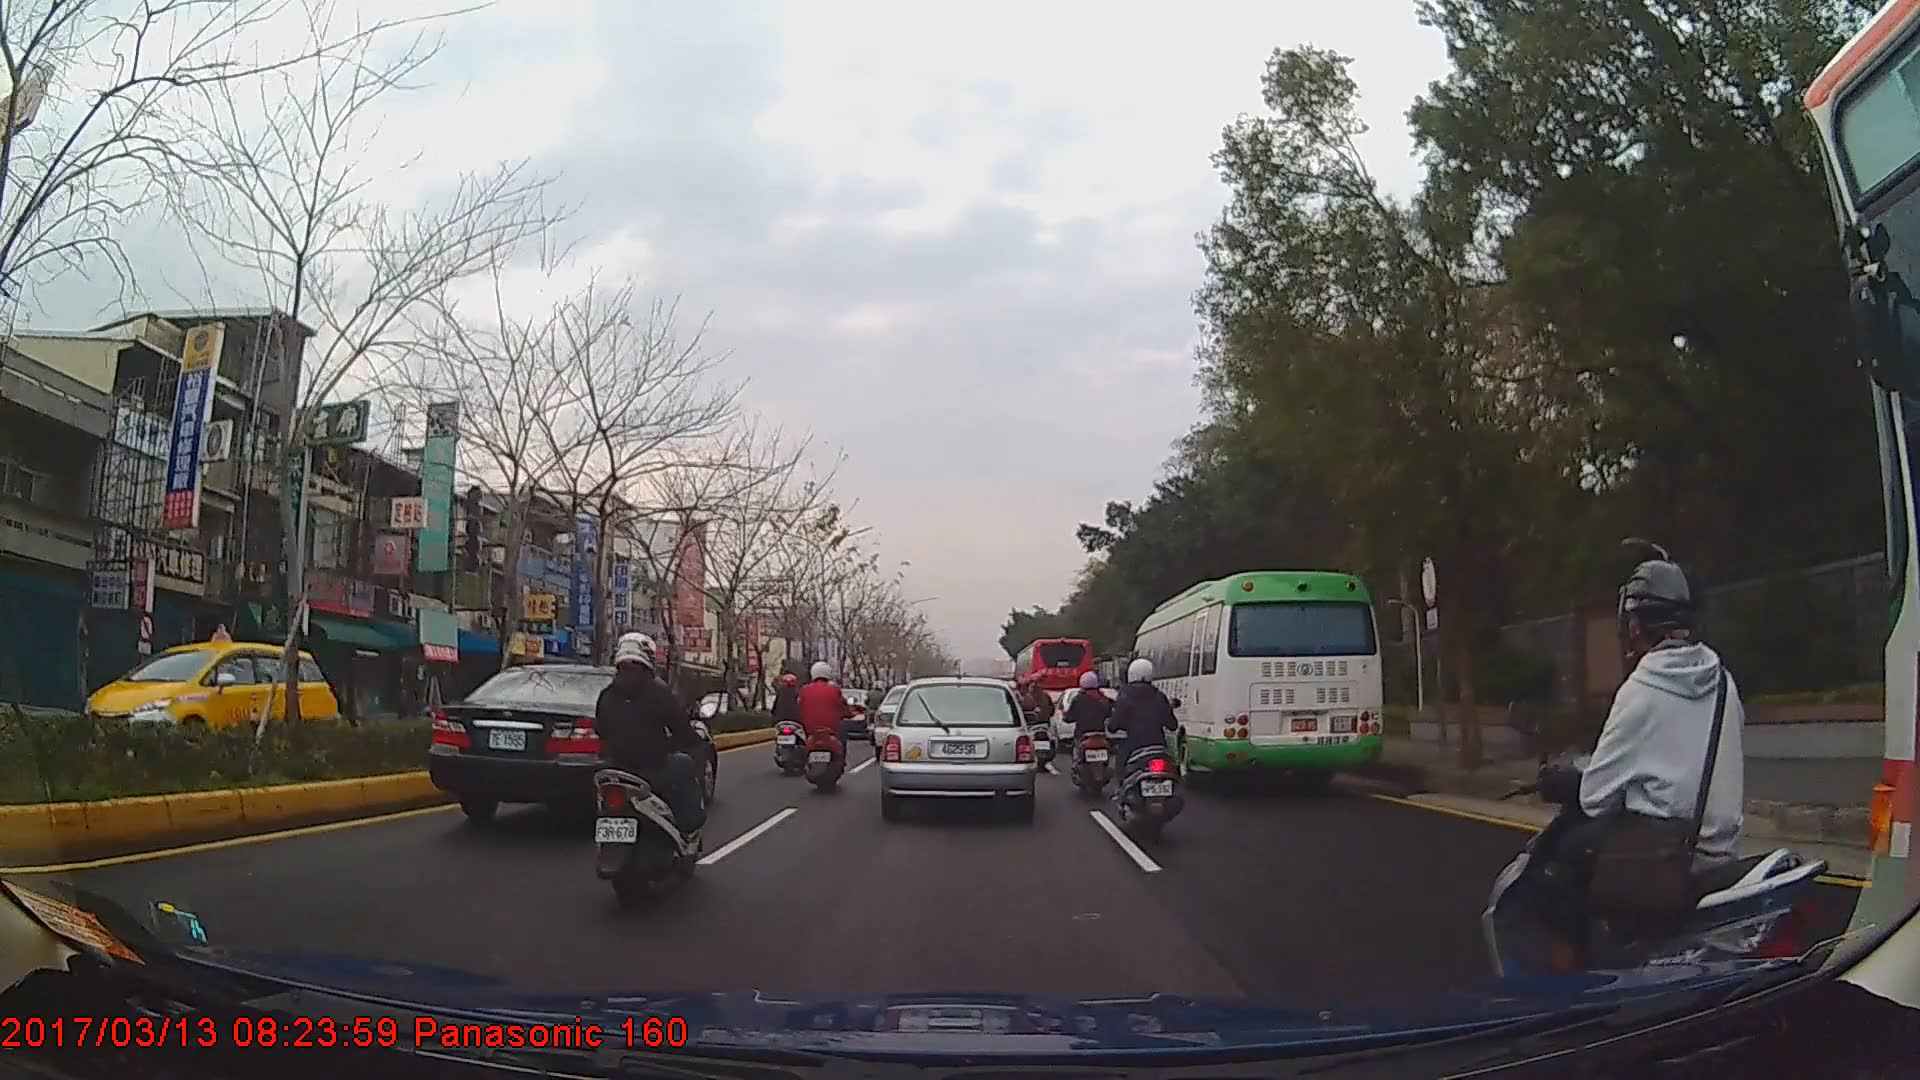rider: (1488, 558, 1830, 1005), (593, 629, 719, 908), (1111, 657, 1188, 840), (1063, 668, 1118, 800), (796, 661, 849, 796), (771, 674, 811, 776), (1015, 670, 1053, 771), (866, 680, 888, 744)
vehicle: (1124, 571, 1385, 798), (426, 661, 720, 833), (72, 618, 348, 774), (879, 676, 1033, 819), (1012, 631, 1096, 727)
